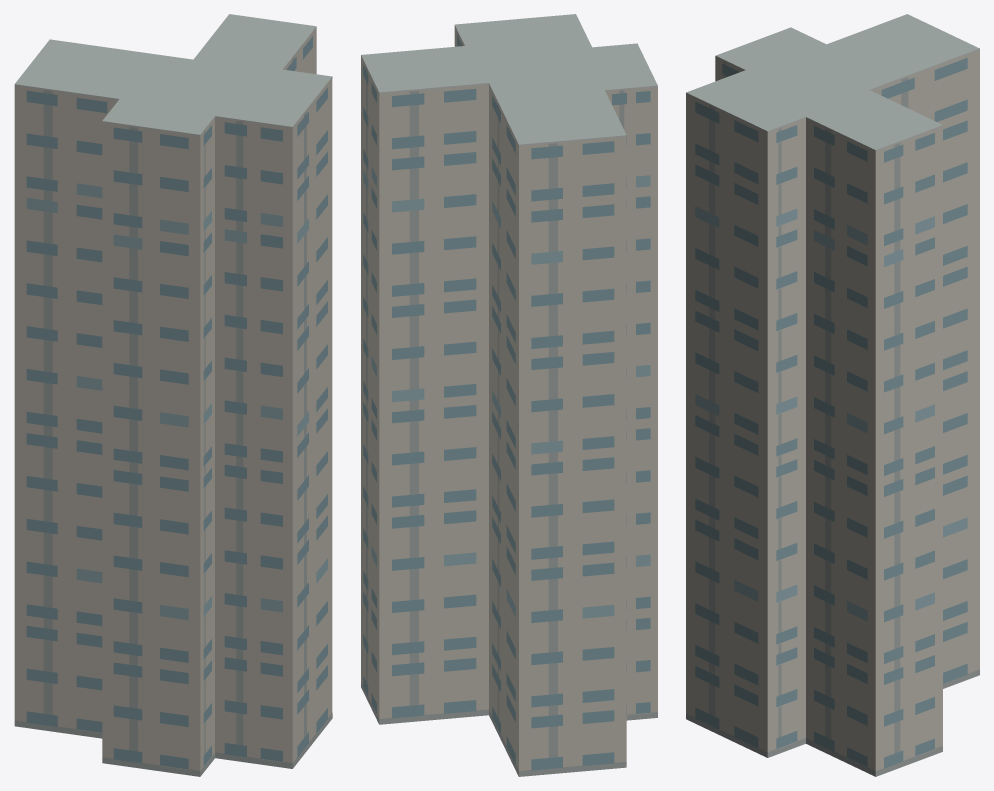
Rendered from residential-13756e48-0ec1-4e62-9021-7c7f9d2eae39.glb.
3 renders of one model, left to right at view 1: azimuth 30°, elevation 25°; view 2: azimuth 150°, elevation 25°; view 3: azimuth 270°, elevation 25°, orthographic. The views are drawn at different scales.
Visible parts, largest first — view 1: residential-13756e48-0ec1-4e62-9021-7c7f9d2eae39.tmp; view 2: residential-13756e48-0ec1-4e62-9021-7c7f9d2eae39.tmp; view 3: residential-13756e48-0ec1-4e62-9021-7c7f9d2eae39.tmp.
Part boxes in pixels (x1=…): residential-13756e48-0ec1-4e62-9021-7c7f9d2eae39.tmp: x1=14, y1=14, x2=332, y2=776; residential-13756e48-0ec1-4e62-9021-7c7f9d2eae39.tmp: x1=361, y1=14, x2=657, y2=776; residential-13756e48-0ec1-4e62-9021-7c7f9d2eae39.tmp: x1=686, y1=14, x2=979, y2=776.
Size of the model in its own units: 41.03 by 88 by 37.39.
